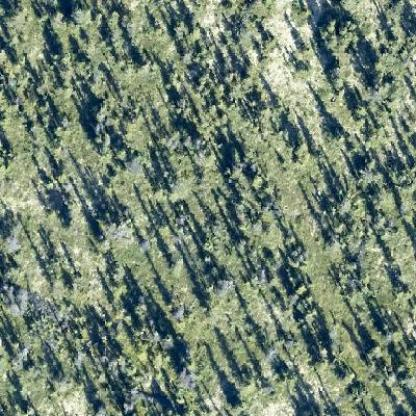tree-top: (317, 10, 357, 50), (97, 209, 138, 244), (165, 167, 199, 200), (57, 194, 83, 230), (175, 359, 203, 391), (288, 136, 314, 164), (210, 270, 236, 296), (320, 122, 346, 148), (287, 2, 311, 26), (68, 1, 92, 25), (330, 190, 352, 216), (336, 363, 360, 385), (168, 18, 192, 38), (291, 57, 313, 78), (46, 8, 66, 28), (157, 331, 178, 349)
